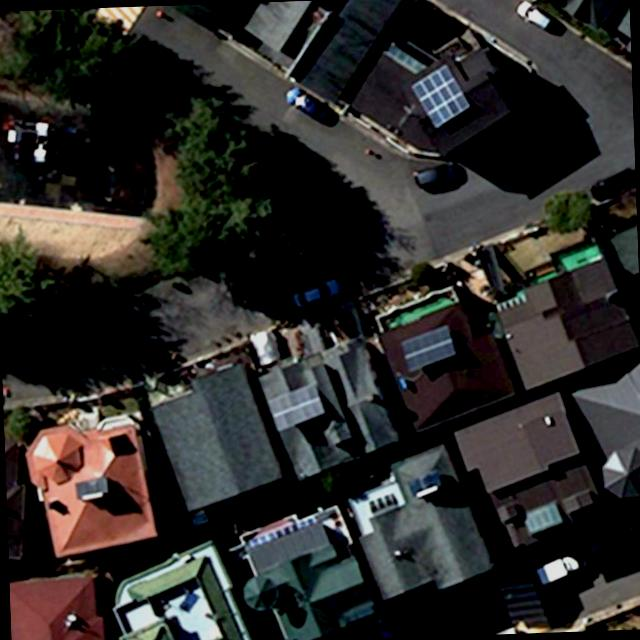solar: (408, 61, 472, 130), (263, 380, 326, 432), (397, 326, 457, 372)
